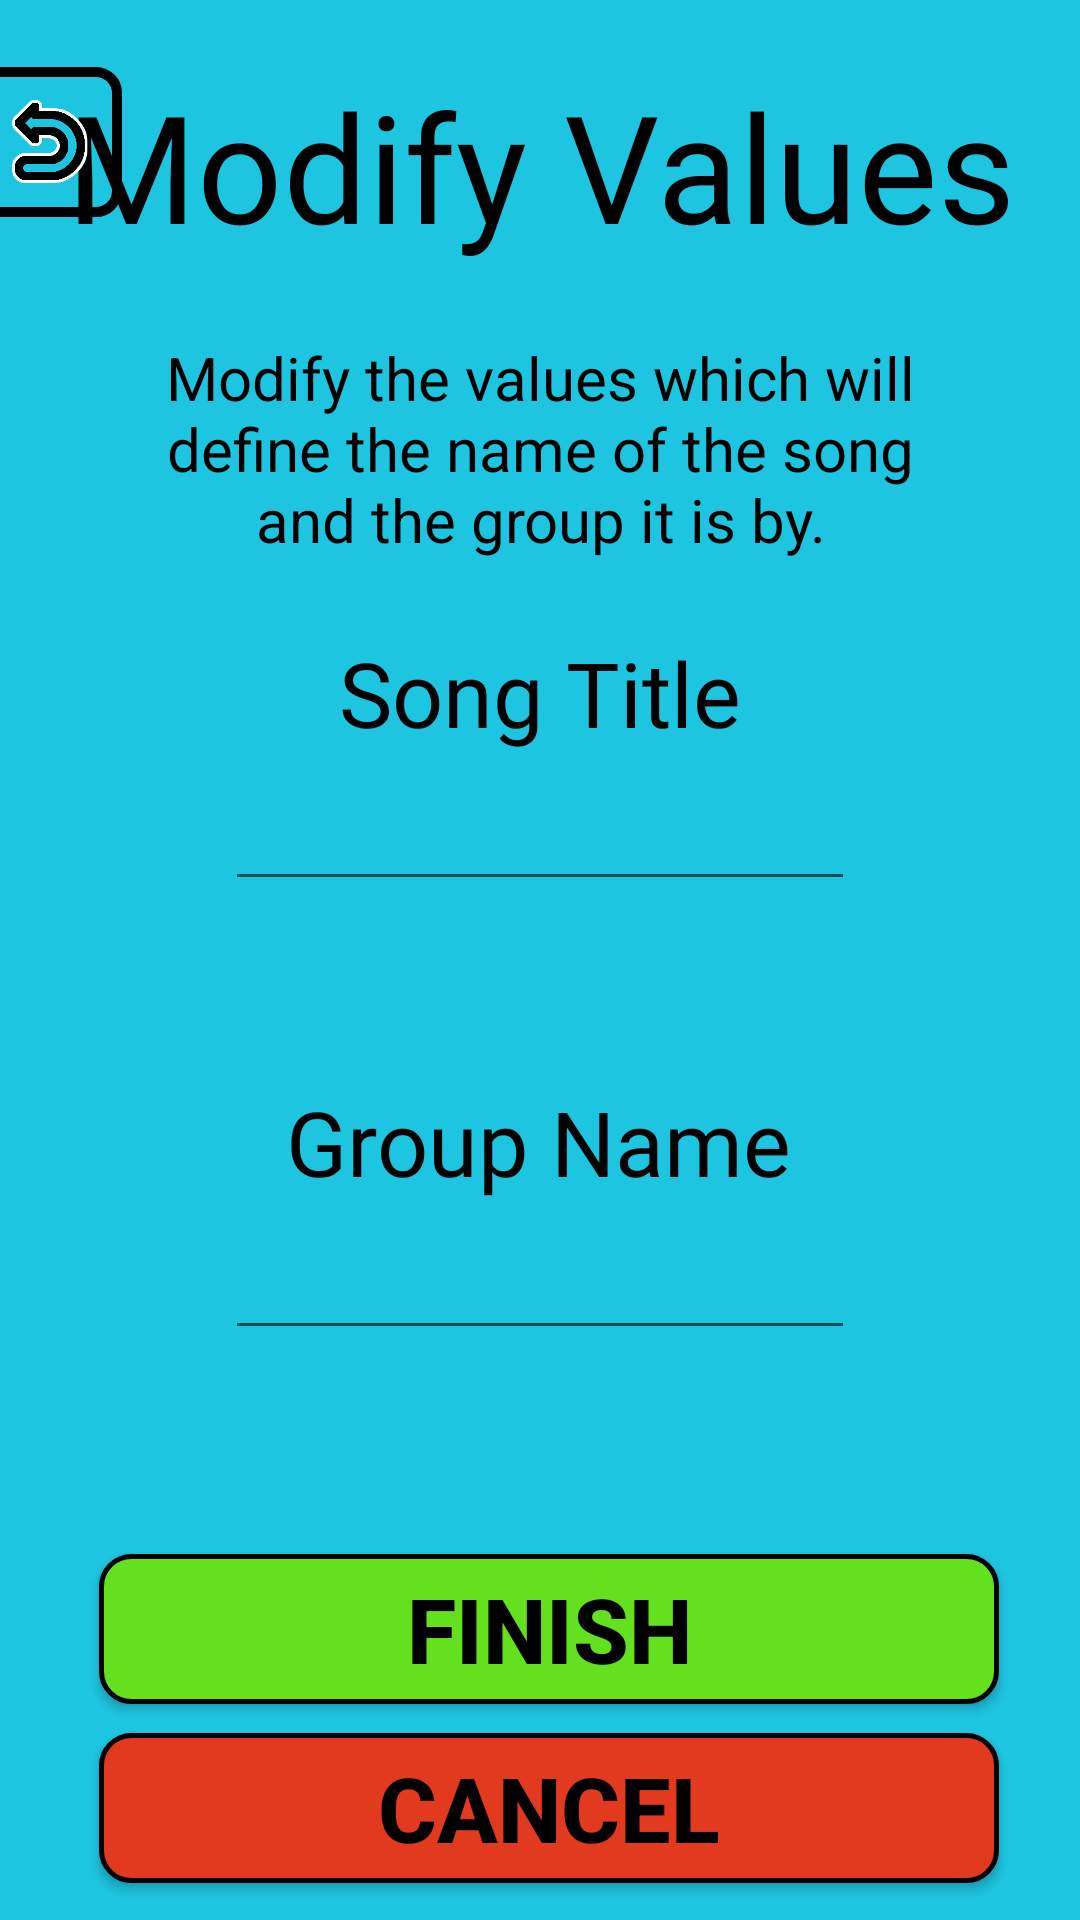

Screen size 1080px x 1920px. Icon name, then its center in pixels as [x,y]:
back: [51,143]
